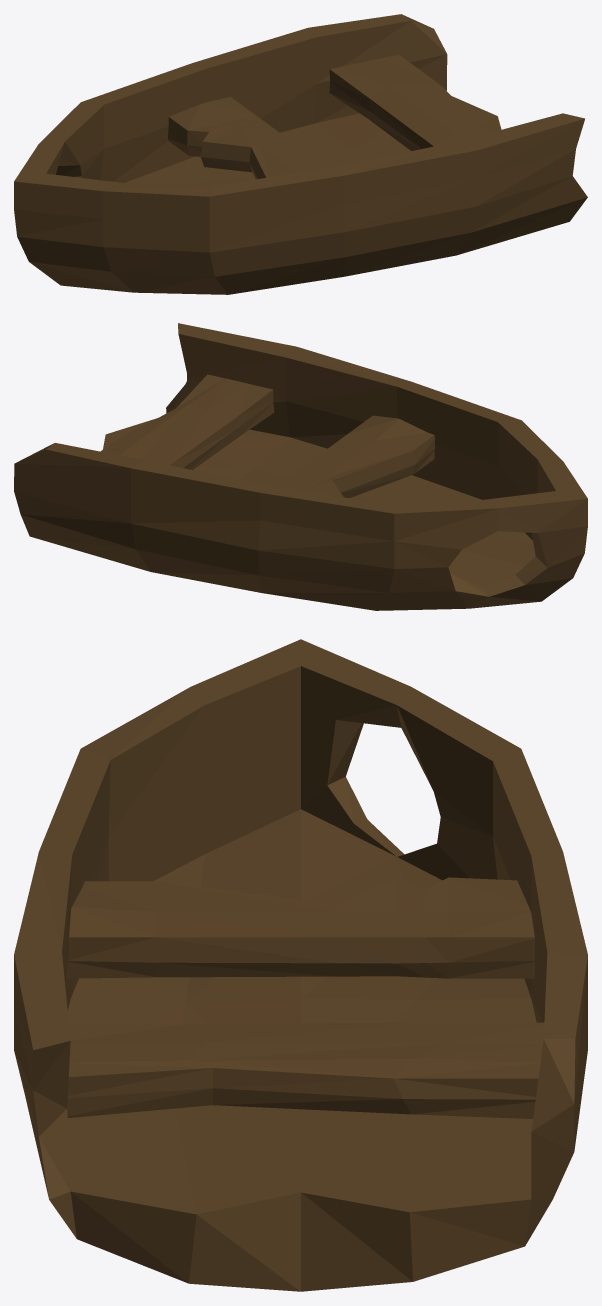
The model's file is Boot kaputt.fbx.
3 views of the same model, one above another, from view 1: azimuth 30°, elevation 25°; view 2: azimuth 150°, elevation 25°; view 3: azimuth 270°, elevation 25° (orthographic). The views are drawn at different scales.
Parts seen in each view (by area): view 1: Boot, Sitz_II, Sitz_I; view 2: Boot, Sitz_II, Sitz_I; view 3: Boot, Sitz_II, Sitz_I.
Part boxes in pixels (x1,y1,x2,y2): Boot: (14,14,587,294); Sitz_II: (329,54,490,150); Sitz_I: (168,97,327,179); Boot: (14,323,587,610); Sitz_II: (100,374,274,469); Sitz_I: (276,415,434,497); Boot: (14,639,587,1291); Sitz_II: (67,1022,544,1118); Sitz_I: (66,877,534,978).
Bounding box in the file's own units: 674 × 171 × 378.
